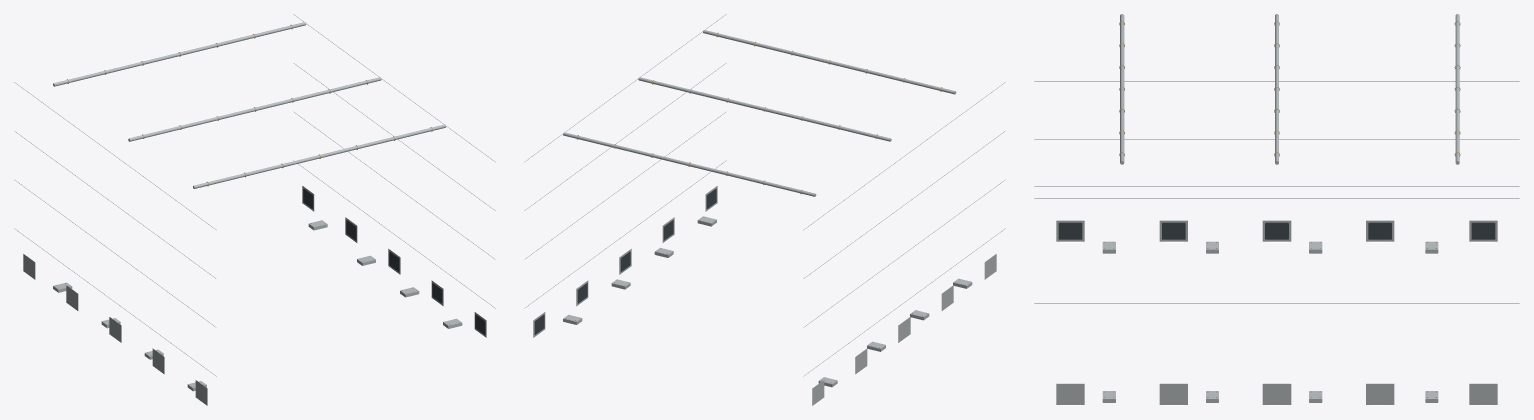
Rendered from B-services.glb.
3 views of the same model, side by side, from view 1: azimuth 30°, elevation 25°; view 2: azimuth 150°, elevation 25°; view 3: azimuth 270°, elevation 25° (orthographic). The views are drawn at different scales.
Parts seen in each view (by area): view 1: B-services-metal, B-services-basalt; view 2: B-services-metal, B-services-basalt; view 3: B-services-metal, B-services-basalt.
Part boxes in pixels (x1,y1,x2,y2): B-services-metal: (23,22,486,405); B-services-basalt: (14,14,495,376); B-services-metal: (533,30,996,405); B-services-basalt: (524,14,1005,376); B-services-metal: (1056,14,1497,404); B-services-basalt: (1034,81,1519,397).
Size of the model in its own units: 29.96 by 20.32 by 37.6.
